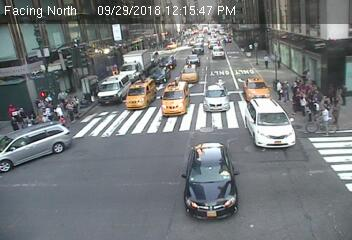car: (185, 142, 235, 220), (1, 122, 72, 172), (244, 98, 294, 149), (118, 48, 151, 81), (160, 81, 192, 115), (125, 81, 153, 110), (95, 78, 129, 101), (241, 78, 274, 100), (205, 83, 229, 111), (181, 64, 199, 83), (159, 56, 176, 69), (210, 43, 224, 57), (149, 50, 160, 66), (185, 55, 202, 65), (192, 43, 206, 55), (165, 42, 178, 50)
